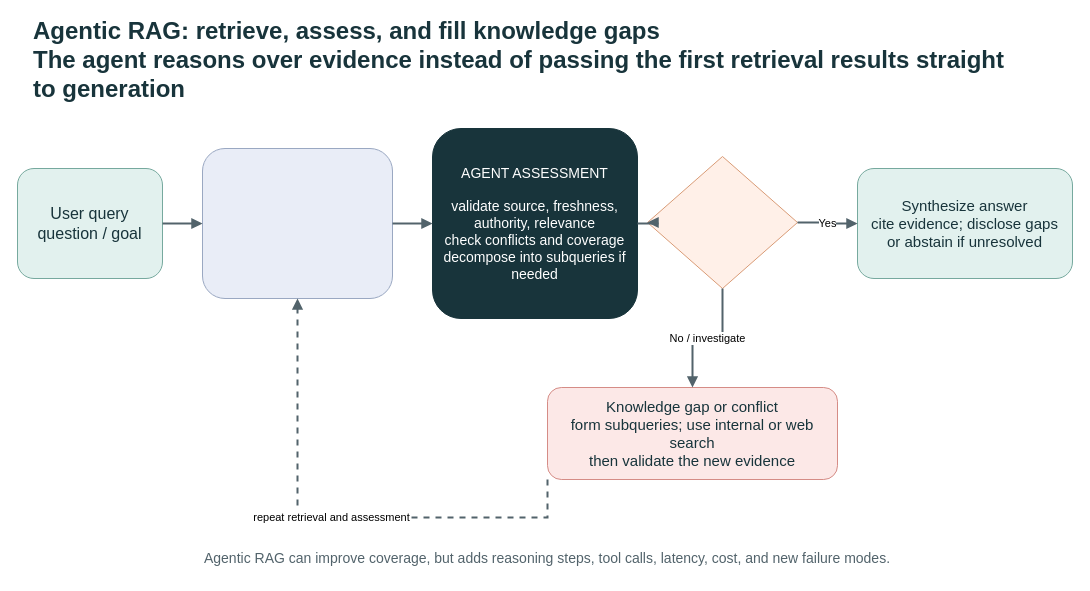
This 1090x591 diagram has some shape labels left out. Each missing label, with the centre of its shape:
"Retrieve chunked index hybrid search / rerank candidate sources + metadata" belongs at pixel 297 223.
"Sufficient, reliable evidence?" belongs at pixel 722 222.
